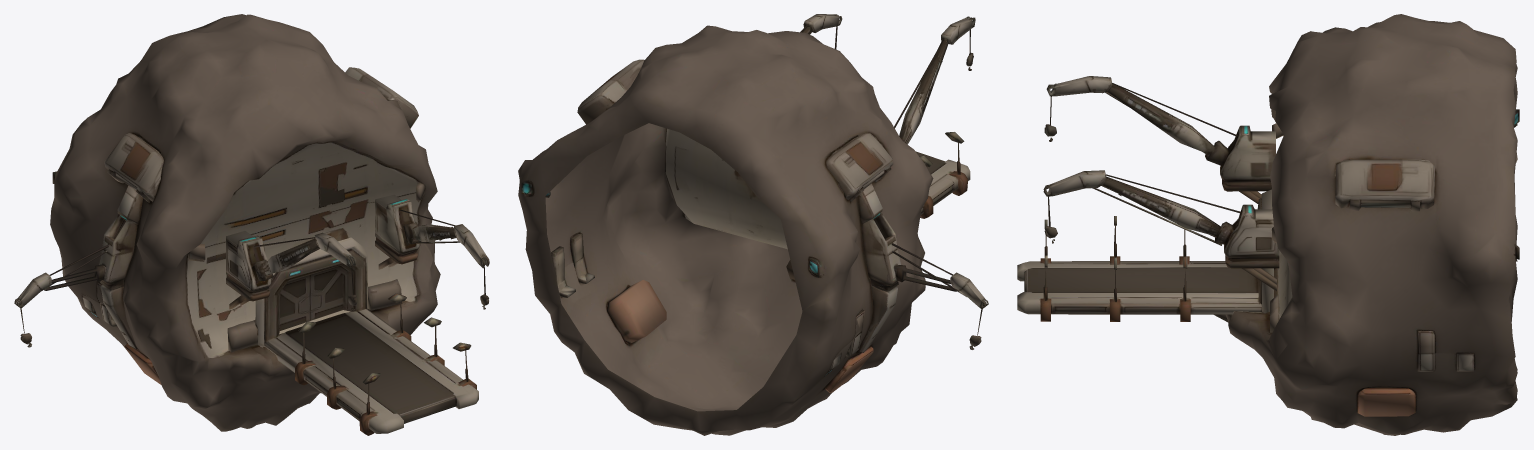
Rendered from original_glb.glb.
3 views of the same model, side by side, from view 1: azimuth 30°, elevation 25°; view 2: azimuth 150°, elevation 25°; view 3: azimuth 270°, elevation 25° (orthographic). The views are drawn at different scales.
Parts seen in each view (by area): view 1: Ceres Depot; view 2: Ceres Depot; view 3: Ceres Depot.
Part boxes in pixels (x1=…): Ceres Depot: x1=14, y1=14, x2=489, y2=435; Ceres Depot: x1=518, y1=14, x2=988, y2=435; Ceres Depot: x1=1017, y1=14, x2=1519, y2=435.
Size of the model in its own units: 0.9512 by 0.8262 by 0.9629.
Materials: 1 (1 with a texture image).
